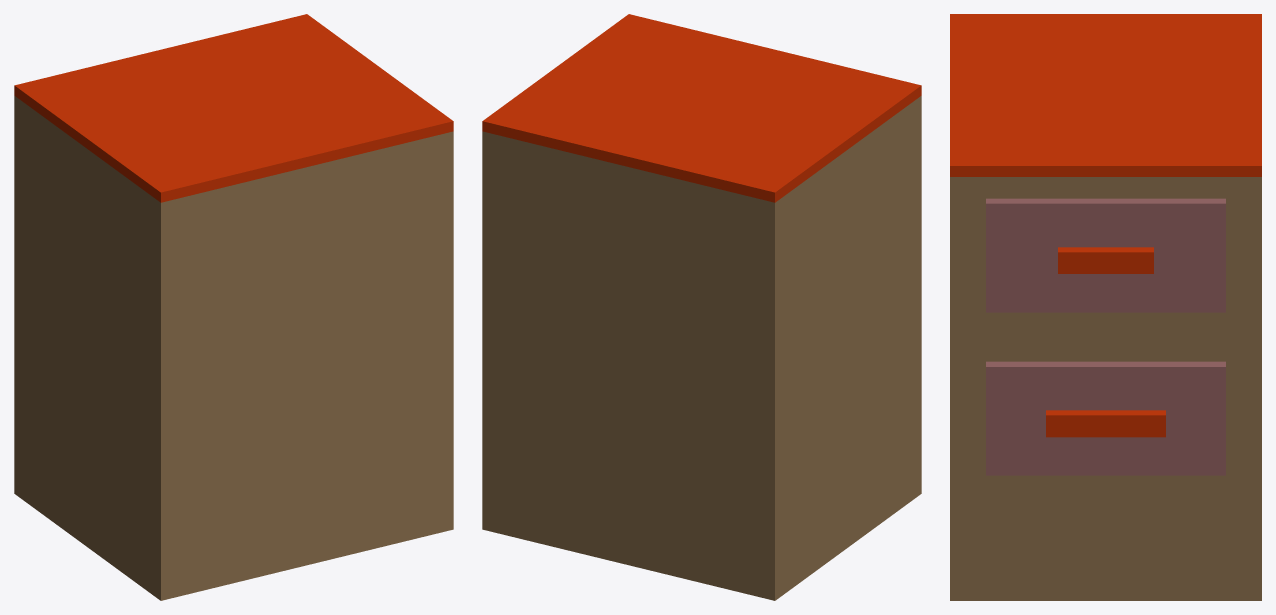
File: drawer.obj
The picture shows the model from 3 angles, left to right: view 1: azimuth 30°, elevation 25°; view 2: azimuth 150°, elevation 25°; view 3: azimuth 270°, elevation 25°; orthographic projection. The views are drawn at different scales.
Parts seen in each view (by area): view 1: drawer; view 2: drawer; view 3: drawer.
Part boxes in pixels (x1,y1,x2,y2): drawer: (14,14,453,600); drawer: (482,14,921,600); drawer: (950,14,1261,600).
Bounding box in the file's own units: 32 × 40 × 26.
